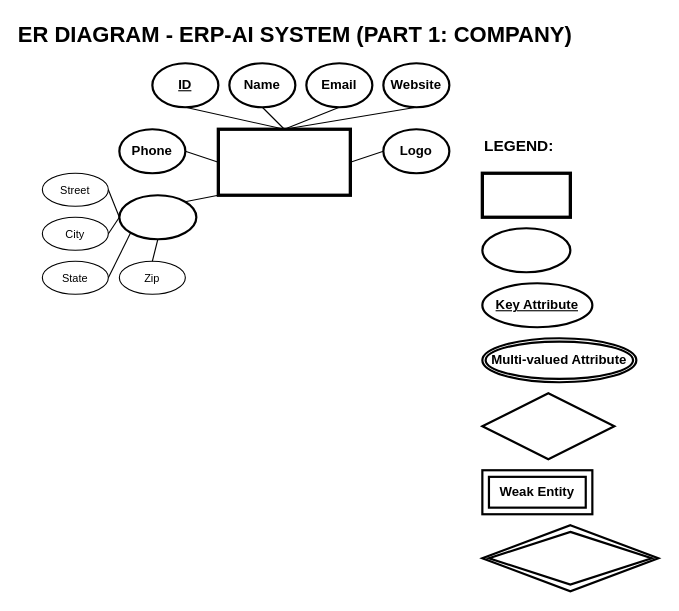
Image size: 679x611. Some labels were removed from this diagram. Each missing label, with the box of its shape:
Address: (118, 194, 197, 240)
Attribute: (481, 227, 571, 273)
COMPANY: (216, 127, 351, 196)
Entity: (480, 171, 571, 218)
Identifying Relationship: (481, 524, 659, 592)
Relationship: (481, 392, 615, 460)
